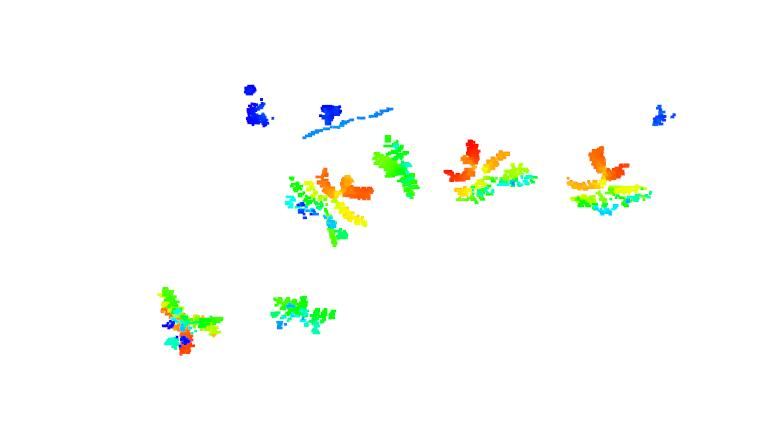chickpea: (287, 168, 374, 247), (566, 145, 653, 218), (445, 138, 538, 206), (155, 287, 224, 357), (372, 133, 422, 201), (268, 293, 337, 337)
